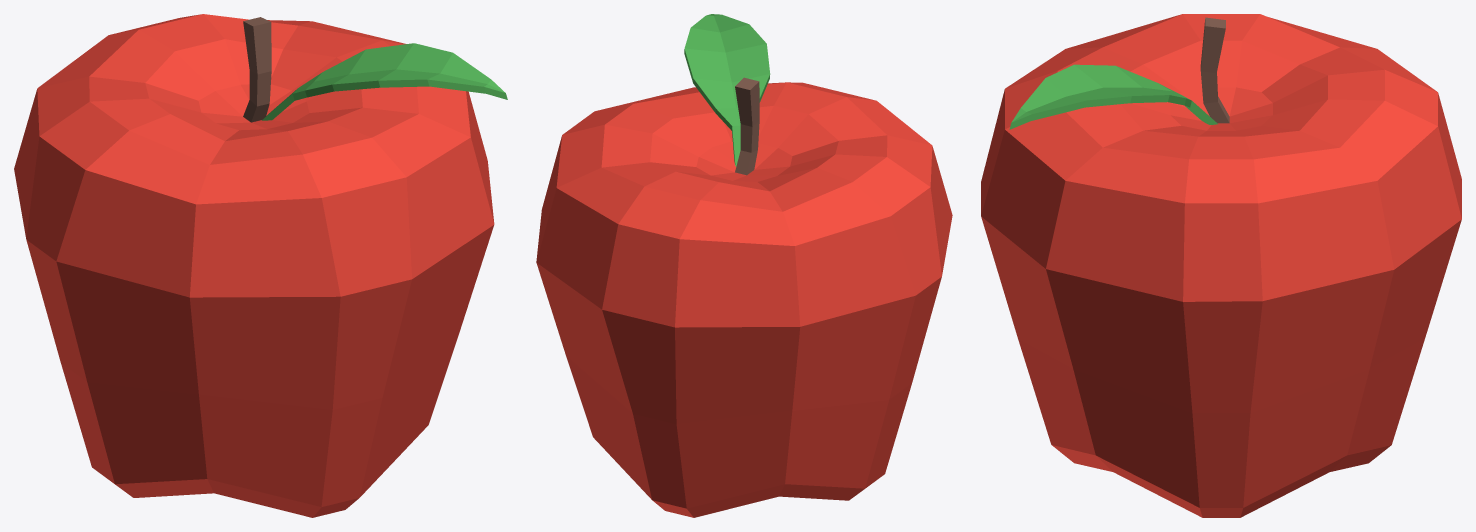
The model's file is apple.glb.
3 views of the same model, side by side, from view 1: azimuth 30°, elevation 25°; view 2: azimuth 150°, elevation 25°; view 3: azimuth 270°, elevation 25° (orthographic). The views are drawn at different scales.
Visible parts, largest first — view 1: node-0; view 2: node-0; view 3: node-0.
Boxes of the visible parts, x1,y1,x2,y2 form: node-0: [14, 14, 507, 517]; node-0: [536, 14, 952, 517]; node-0: [981, 14, 1461, 517].
Size of the model in its own units: 9.96 by 9.84 by 9.88.
